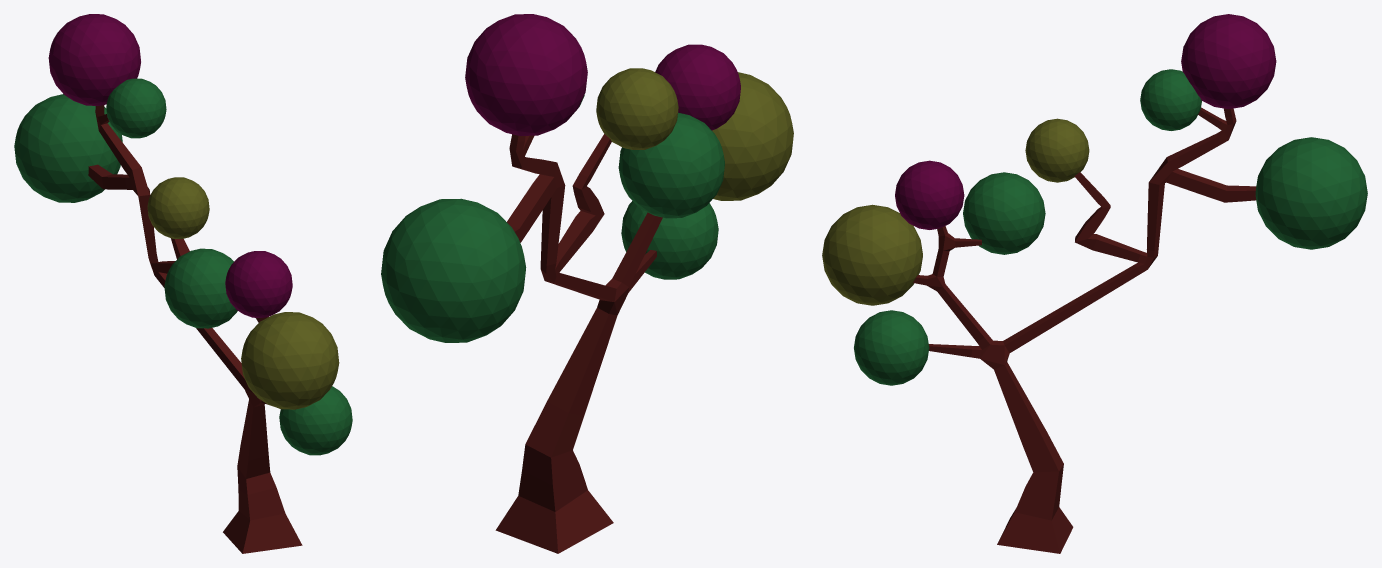
File: tree.fbx
3 views of the same model, side by side, from view 1: azimuth 30°, elevation 25°; view 2: azimuth 150°, elevation 25°; view 3: azimuth 270°, elevation 25° (orthographic). The views are drawn at different scales.
Visible parts, largest first — view 1: Cube, Икосфера, Икосфера.006, Икосфера.001, Икосфера.004, Икосфера.005, Икосфера.007, Икосфера.003, Икосфера.002; view 2: Cube, Икосфера, Икосфера.001, Икосфера.004, Икосфера.006, Икосфера.003, Икосфера.005, Икосфера.007; view 3: Cube, Икосфера, Икосфера.006, Икосфера.001, Икосфера.004, Икосфера.007, Икосфера.005, Икосфера.003, Икосфера.002.
Part boxes in pixels (x1,y1,x2,y2): Cube: (88, 105, 302, 553); Икосфера: (14, 94, 122, 202); Икосфера.006: (241, 312, 339, 409); Икосфера.001: (48, 14, 140, 105); Икосфера.004: (164, 248, 237, 328); Икосфера.005: (225, 251, 292, 317); Икосфера.007: (279, 386, 352, 455); Икосфера.003: (147, 177, 209, 238); Икосфера.002: (106, 78, 166, 138); Cube: (495, 134, 662, 553); Икосфера: (381, 198, 526, 342); Икосфера.001: (465, 14, 587, 135); Икосфера.004: (618, 112, 724, 218); Икосфера.006: (712, 72, 793, 200); Икосфера.003: (596, 68, 678, 149); Икосфера.005: (655, 44, 740, 130); Икосфера.007: (621, 201, 718, 279); Cube: (913, 107, 1256, 553); Икосфера: (1255, 137, 1367, 249); Икосфера.006: (822, 204, 922, 305); Икосфера.001: (1181, 14, 1276, 109); Икосфера.004: (963, 172, 1045, 254); Икосфера.007: (854, 310, 929, 385); Икосфера.005: (895, 160, 964, 229); Икосфера.003: (1025, 118, 1089, 182); Икосфера.002: (1140, 69, 1201, 130).
Size of the model in its own units: 540 by 1667 by 1708.
